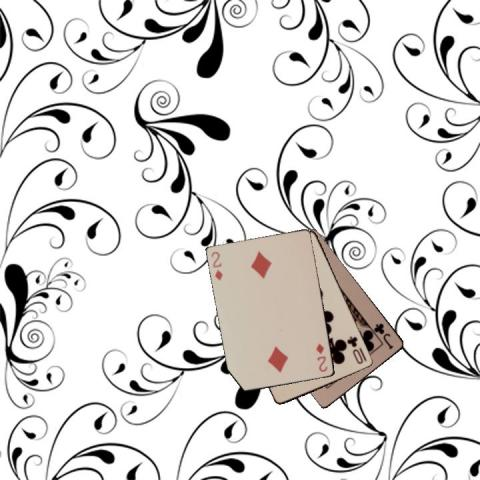10c: (344, 334, 368, 366)
2d: (208, 249, 224, 282), (313, 341, 329, 373)
Jc: (372, 320, 396, 351)
